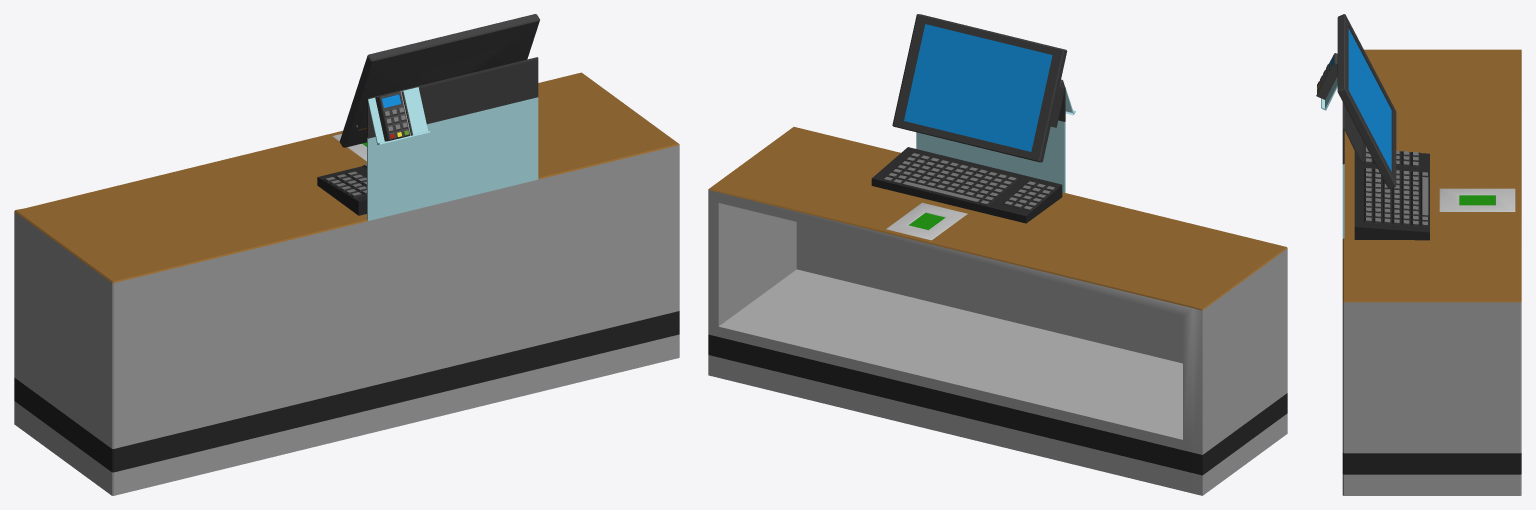
The model's file is checkout_sm_left_rework.glb.
3 views of the same model, side by side, from view 1: azimuth 30°, elevation 25°; view 2: azimuth 150°, elevation 25°; view 3: azimuth 270°, elevation 25° (orthographic). The views are drawn at different scales.
Visible parts, largest first — view 1: checkout_sm_left; view 2: checkout_sm_left; view 3: checkout_sm_left.
Boxes of the visible parts, left/top/right/bottom form: checkout_sm_left: left=14, top=14, right=679, bottom=495; checkout_sm_left: left=708, top=14, right=1287, bottom=495; checkout_sm_left: left=1316, top=14, right=1521, bottom=495.
Size of what is drawn, in the model's own units: 2.5 by 1.59 by 0.8612.
3 materials, 2 textured.
